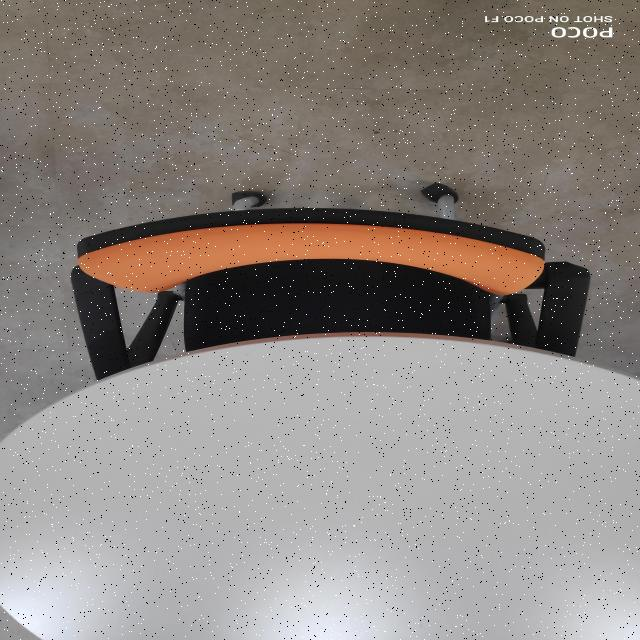Chair: (10, 164, 640, 394)
Table: (0, 319, 640, 640)
